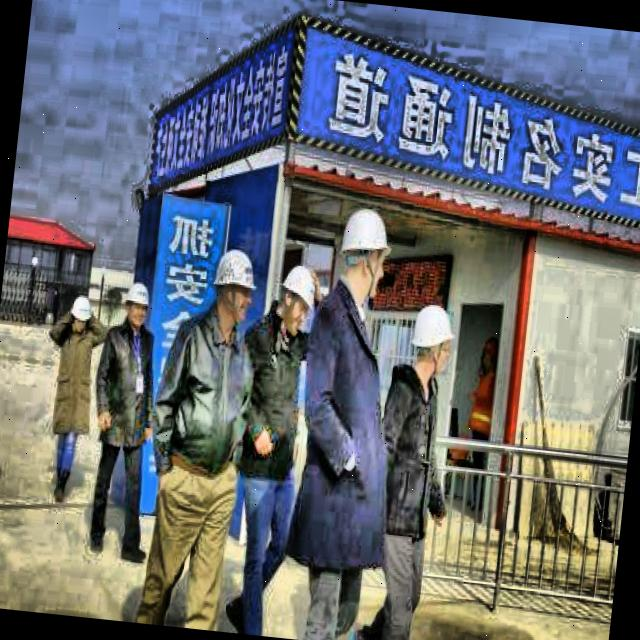helmet: (329, 202, 396, 307), (206, 242, 261, 331), (406, 297, 455, 378), (273, 260, 318, 331), (115, 274, 154, 337), (66, 294, 92, 338)
